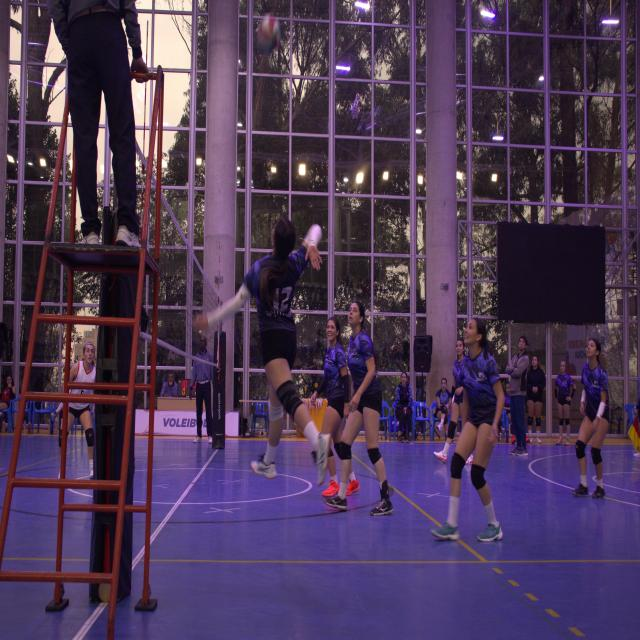volleyball: (256, 14, 281, 51)
